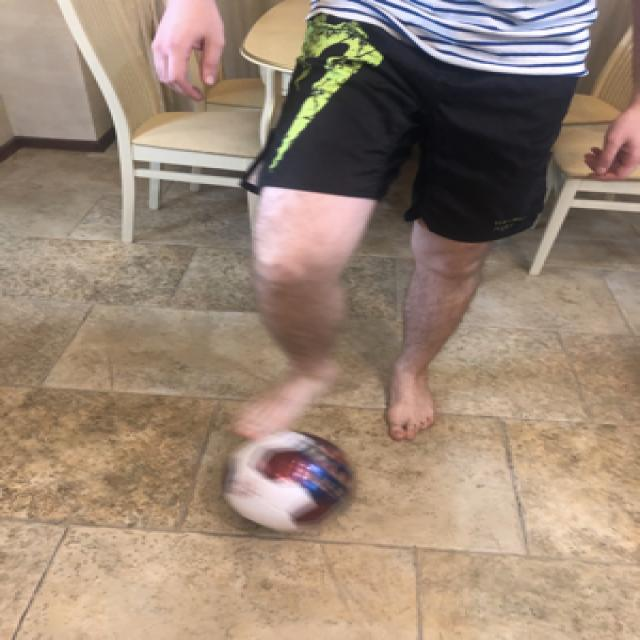soccer_ball: (216, 426, 356, 532)
